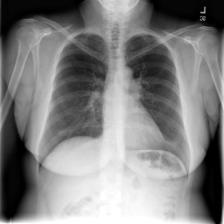normal: (35, 24, 194, 178)
